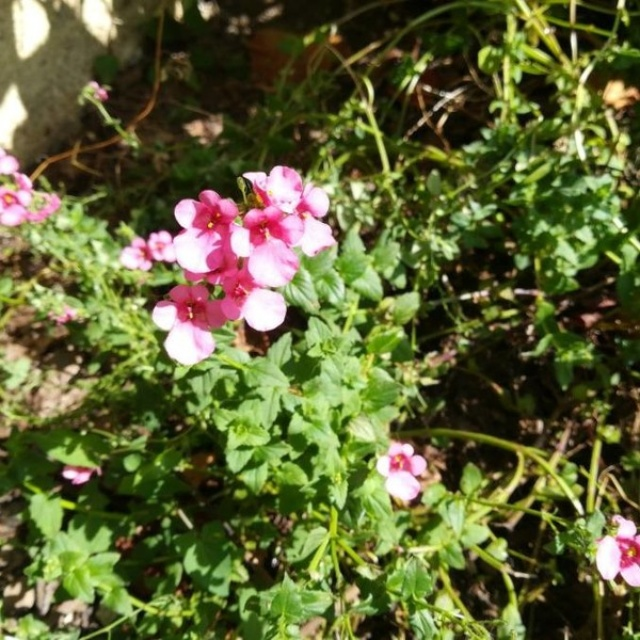obstacle: (141, 165, 381, 571), (443, 70, 589, 306)
